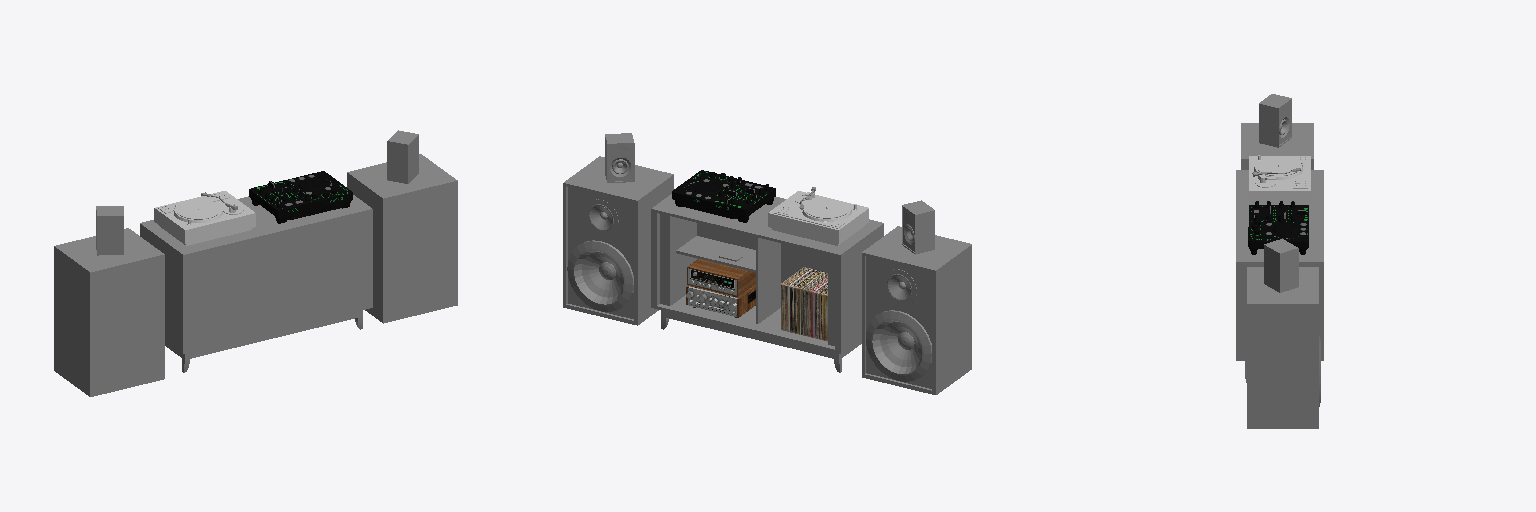
3 views of the same model, side by side, from view 1: azimuth 30°, elevation 25°; view 2: azimuth 150°, elevation 25°; view 3: azimuth 270°, elevation 25° (orthographic).
Visible parts, largest first — view 1: Music_Cabinet, Speaker_01, Speaker_01.001, Turntable, djtable.001, Speaker_02.001, Speaker_02.002; view 2: Music_Cabinet, Speaker_01, Speaker_01.001, Turntable, djtable.001, Vinyl_Records, Receiver, Speaker_02.002, Amplifier, Speaker_02.001; view 3: Speaker_01.001, Music_Cabinet, Turntable, djtable.001, Speaker_01, Speaker_02.001, Speaker_02.002.
Boxes of the visible parts, x1=… form: Music_Cabinet: x1=140, y1=195, x2=372, y2=372; Speaker_01: x1=54, y1=228, x2=164, y2=396; Speaker_01.001: x1=347, y1=154, x2=457, y2=323; Turntable: x1=154, y1=191, x2=255, y2=245; djtable.001: x1=249, y1=171, x2=352, y2=223; Speaker_02.001: x1=387, y1=130, x2=418, y2=183; Speaker_02.002: x1=96, y1=206, x2=123, y2=255; Music_Cabinet: x1=651, y1=194, x2=883, y2=372; Speaker_01: x1=862, y1=226, x2=971, y2=394; Speaker_01.001: x1=563, y1=156, x2=673, y2=325; Turntable: x1=768, y1=191, x2=868, y2=245; djtable.001: x1=672, y1=170, x2=775, y2=222; Vinyl_Records: x1=781, y1=267, x2=827, y2=341; Receiver: x1=687, y1=259, x2=755, y2=296; Speaker_02.002: x1=902, y1=200, x2=934, y2=254; Amplifier: x1=686, y1=284, x2=755, y2=317; Speaker_02.001: x1=605, y1=133, x2=634, y2=182; Speaker_01.001: x1=1247, y1=267, x2=1320, y2=428; Music_Cabinet: x1=1236, y1=170, x2=1323, y2=382; Turntable: x1=1249, y1=155, x2=1310, y2=204; djtable.001: x1=1248, y1=201, x2=1308, y2=254; Speaker_01: x1=1241, y1=123, x2=1313, y2=169; Speaker_02.001: x1=1264, y1=239, x2=1298, y2=292; Speaker_02.002: x1=1259, y1=94, x2=1291, y2=147.
Size of the model in its own units: 56.41 by 24.11 by 11.55.
Materials: 6 (2 with a texture image).